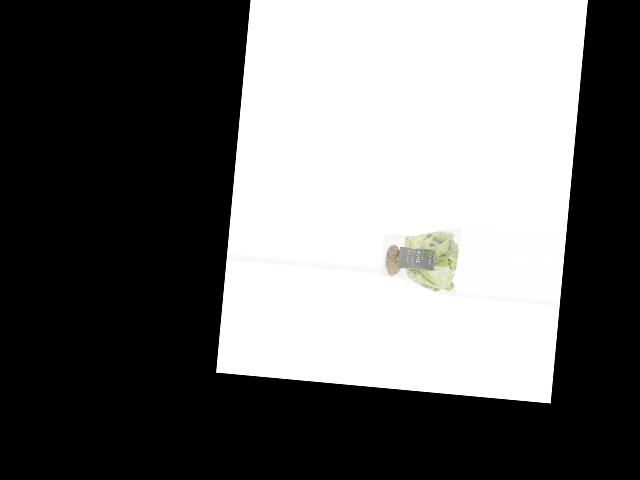lettuce: (378, 223, 461, 295)
